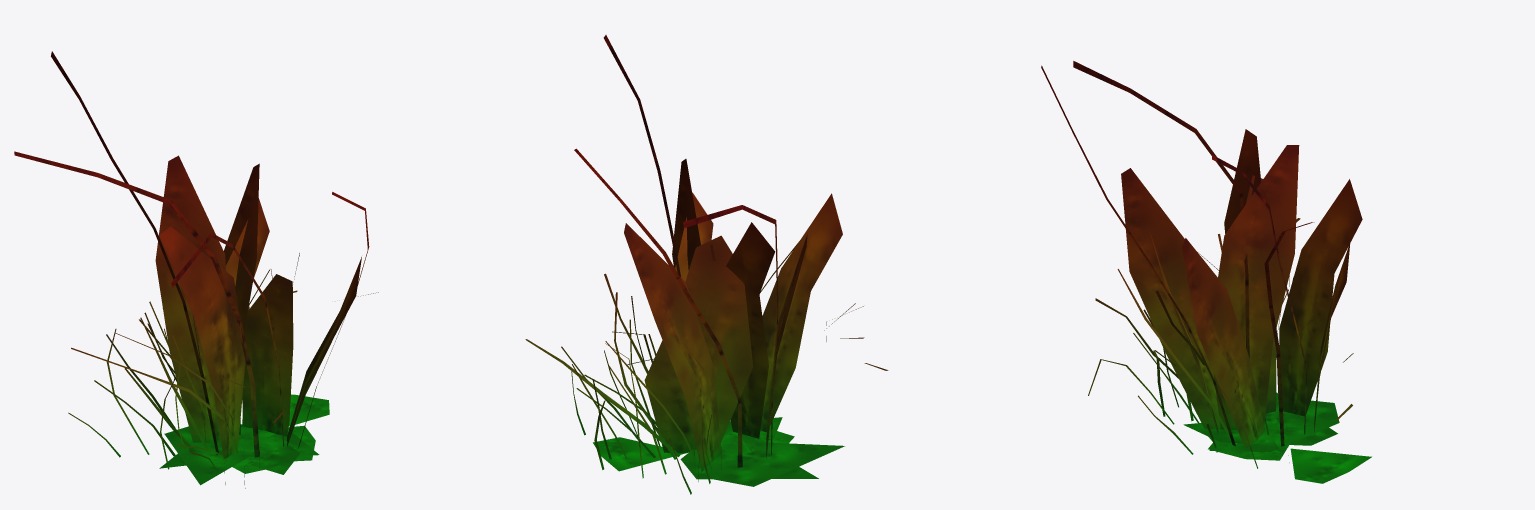
File: Thatching Grass_LOD1_Var9_uddmcgbia.glb
3 renders of one model, left to right at view 1: azimuth 30°, elevation 25°; view 2: azimuth 150°, elevation 25°; view 3: azimuth 270°, elevation 25°, orthographic. The views are drawn at different scales.
Visible parts, largest first — view 1: _8a3d_Var9_LOD1; view 2: _8a3d_Var9_LOD1; view 3: _8a3d_Var9_LOD1.
Part boxes in pixels (x1,y1,x2,y2): _8a3d_Var9_LOD1: (14,51,378,488); _8a3d_Var9_LOD1: (525,35,888,494); _8a3d_Var9_LOD1: (1041,61,1371,483).
Bounding box in the file's own units: 0.2285 × 0.1865 × 0.2225.
1 material, 1 textured.
